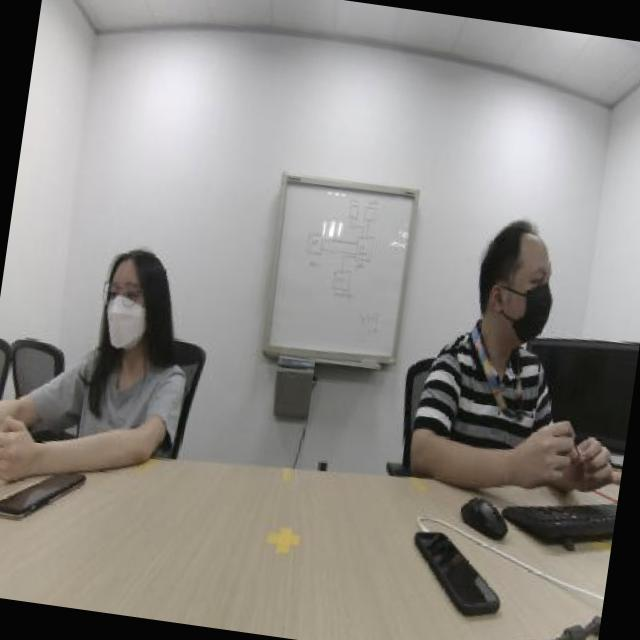Person: (29, 220, 220, 477), (386, 193, 576, 450)
